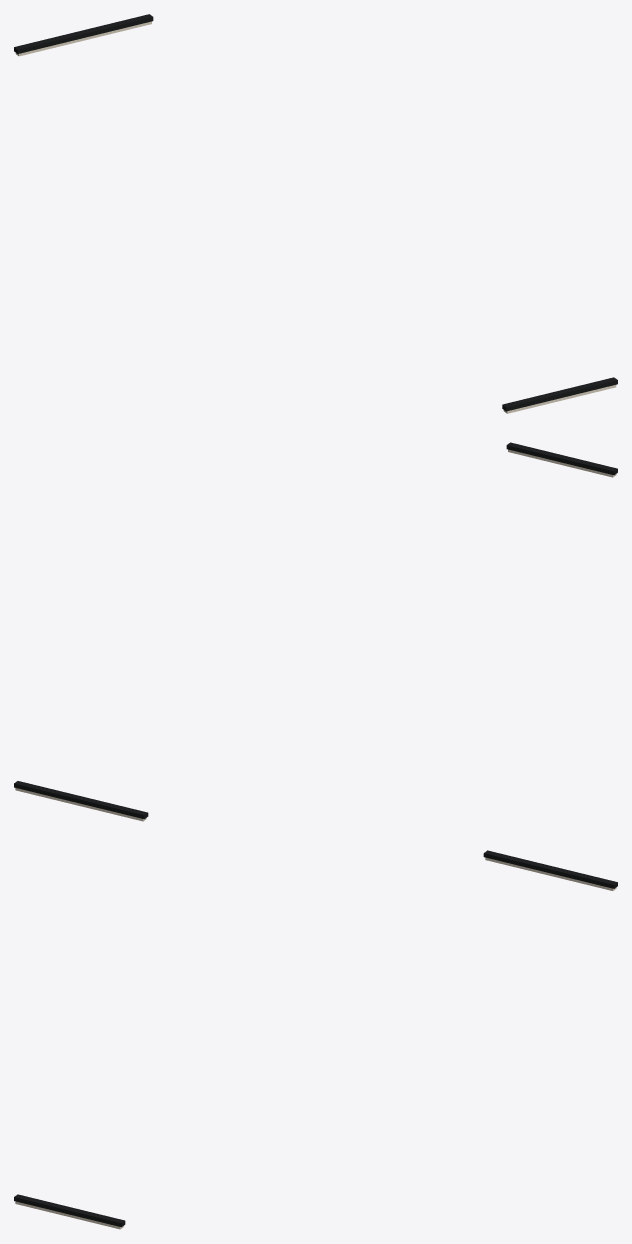
3 renders of one model, top to bottom at view 1: azimuth 30°, elevation 25°; view 2: azimuth 150°, elevation 25°; view 3: azimuth 330°, elevation 25°, orthographic. The views are drawn at different scales.
Visible parts, largest first — view 1: xs_el9_cockpit_light; view 2: xs_el9_cockpit_light; view 3: xs_el9_cockpit_light.
Part boxes in pixels (<box>): xs_el9_cockpit_light: <box>14,14,617,413</box>; xs_el9_cockpit_light: <box>14,442,617,821</box>; xs_el9_cockpit_light: <box>14,850,617,1229</box>.
Bounding box in the file's own units: 0.2 × 0.0098 × 1.26.
